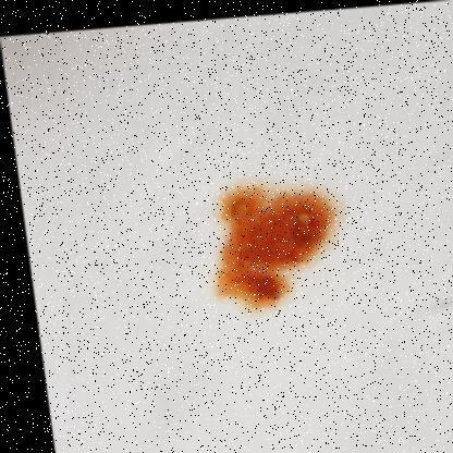kimchi: (213, 183, 338, 318)
